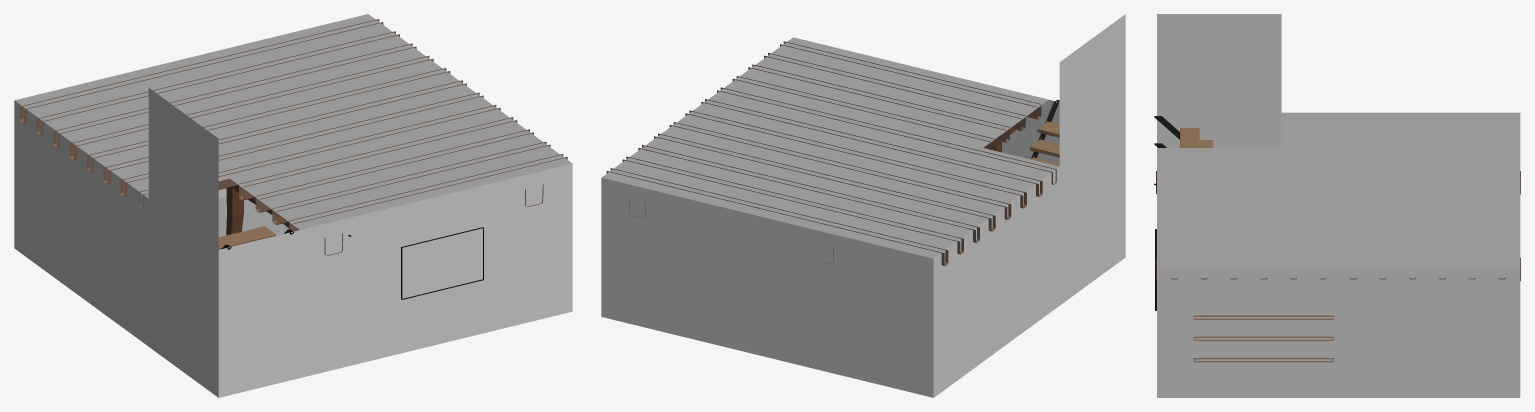
File: Basement.fbx
3 views of the same model, side by side, from view 1: azimuth 30°, elevation 25°; view 2: azimuth 150°, elevation 25°; view 3: azimuth 270°, elevation 25° (orthographic). The views are drawn at different scales.
Visible parts, largest first — view 1: Room, Joists, Wood beams, Stairs; view 2: Room, Joists, Stairs; view 3: Room, Picture frame shelves boxes, Stairs.
Part boxes in pixels (x1,y1,x2,y2): Room: [14, 14, 572, 397]; Joists: [19, 19, 567, 231]; Wood beams: [226, 184, 543, 255]; Stairs: [218, 226, 294, 249]; Room: [601, 14, 1125, 397]; Joists: [606, 41, 1056, 265]; Stairs: [1030, 99, 1059, 166]; Room: [1157, 14, 1520, 397]; Picture frame shelves boxes: [1155, 229, 1334, 362]; Stairs: [1154, 116, 1213, 147].
Bounding box in the file's own units: 10.19 × 7.11 × 10.1.
